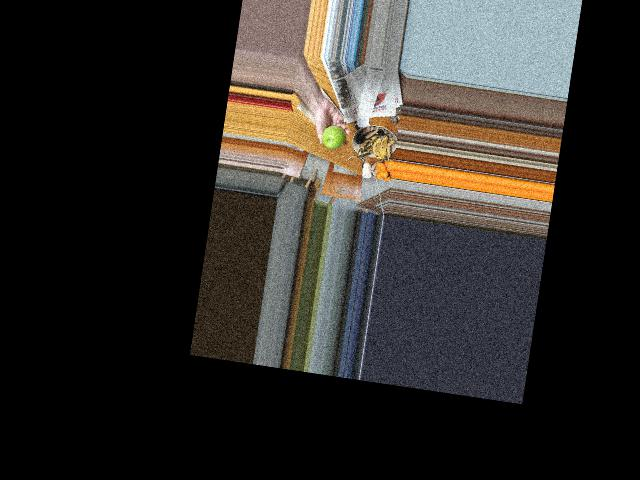apple: (320, 122, 347, 151)
